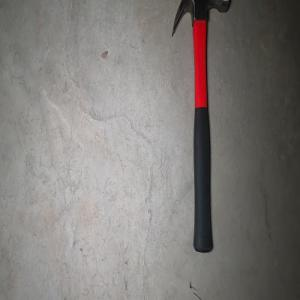Hammer: (171, 0, 231, 253)
